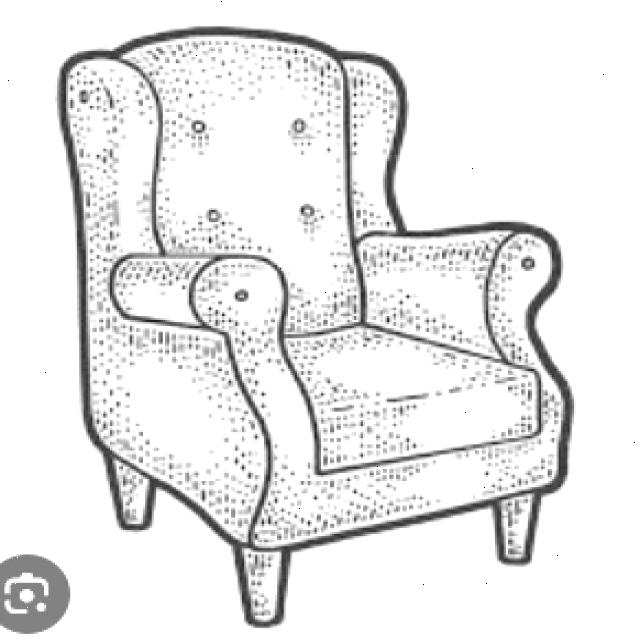Backrest: (109, 29, 363, 337)
Leg_Structure: (102, 445, 563, 631)
Seat: (280, 320, 544, 477)
Wing_Flange: (56, 46, 167, 280), (341, 50, 408, 248)
sofa_armrest: (82, 255, 317, 551), (357, 219, 566, 369)
